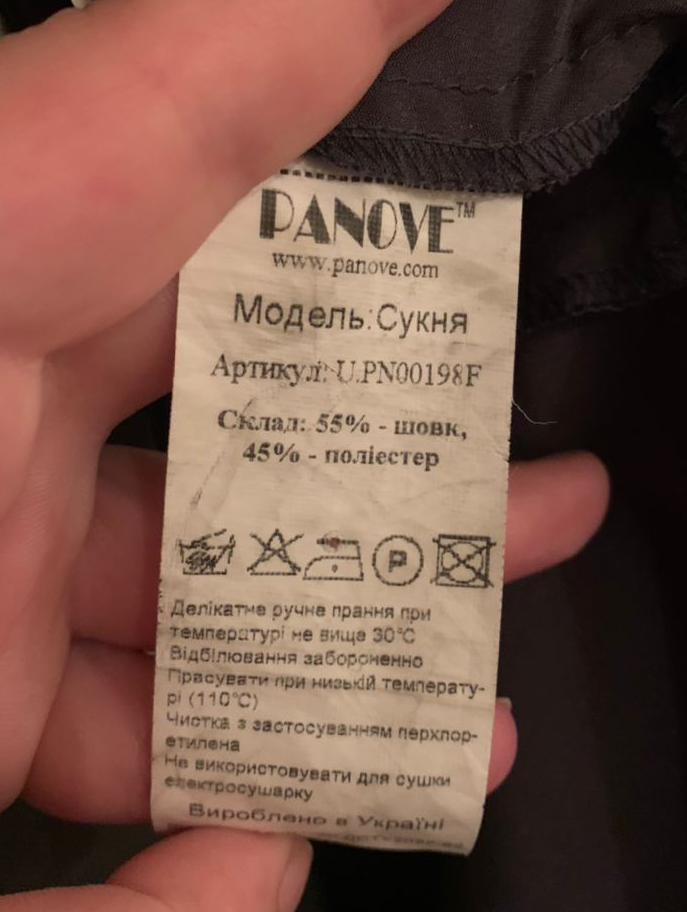do_not_bleach: (247, 526, 307, 583)
do_not_tumble_drying: (428, 531, 502, 589)
dry_clean_tetrachloroethylene_pce_only: (371, 531, 425, 587)
hand_wash: (174, 525, 239, 580)
ironing_at_low_temp: (300, 534, 367, 583)
